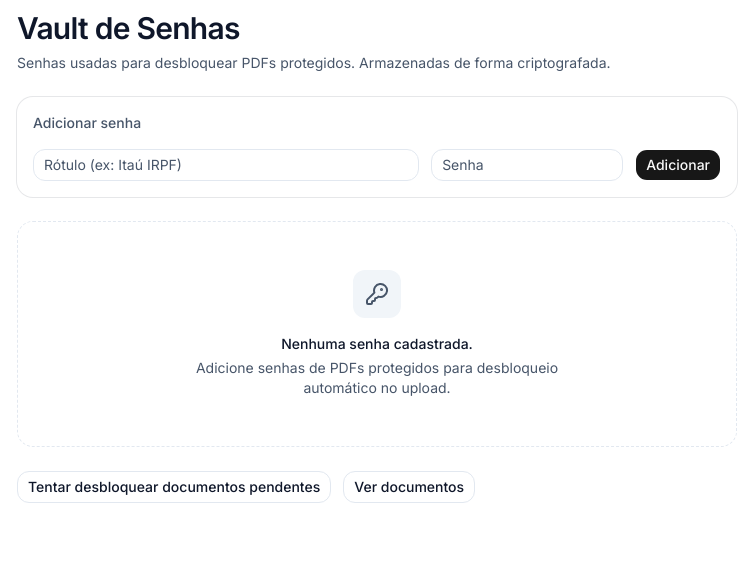
Test: VaultPage › erro 400 ao adicionar mostra detail
The width and height of the screenshot is (755, 580).
Check: the heading "Nenhuma senha cadastrada." is shown, box [281,334,473,354]
Type "x" into the field with placeholder "Rótulo (ex: Itaú IRPF)".
click(226, 165); type("x")  # box [33,149,419,181]
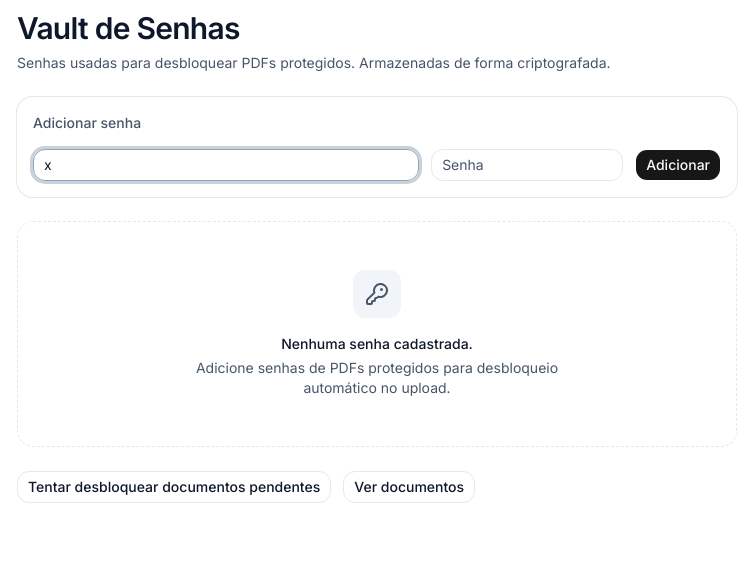
Type "y" into the password field with placeholder "Senha".
click(527, 165); type("y")  # box [431,149,623,181]
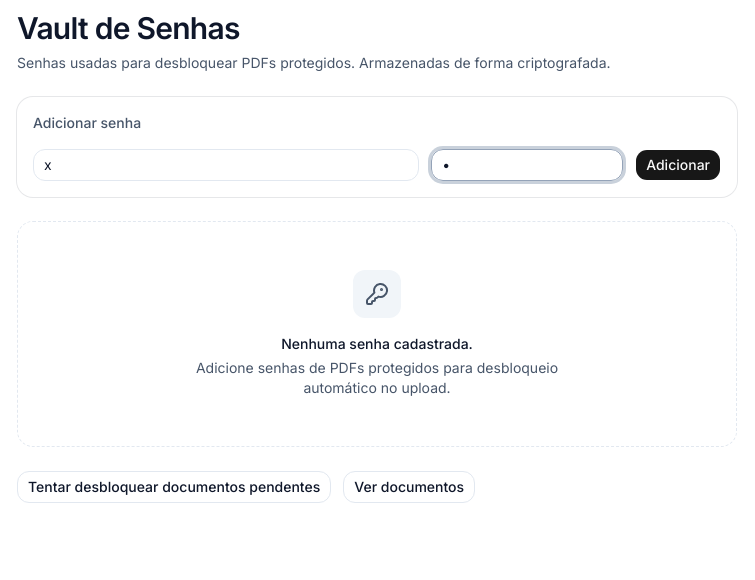
Click the button "Adicionar".
click(678, 165)  # box [635,149,721,181]
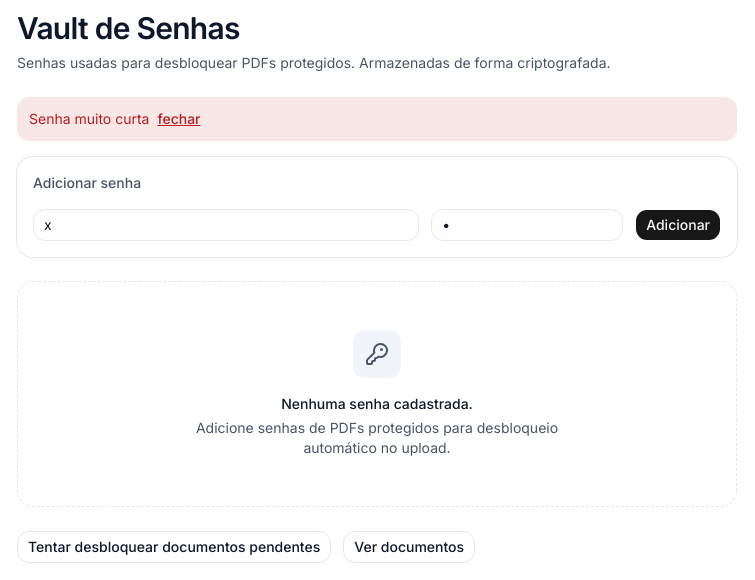
Check: the text "Senha muito curta fechar" is shown, box [17,97,737,141]
